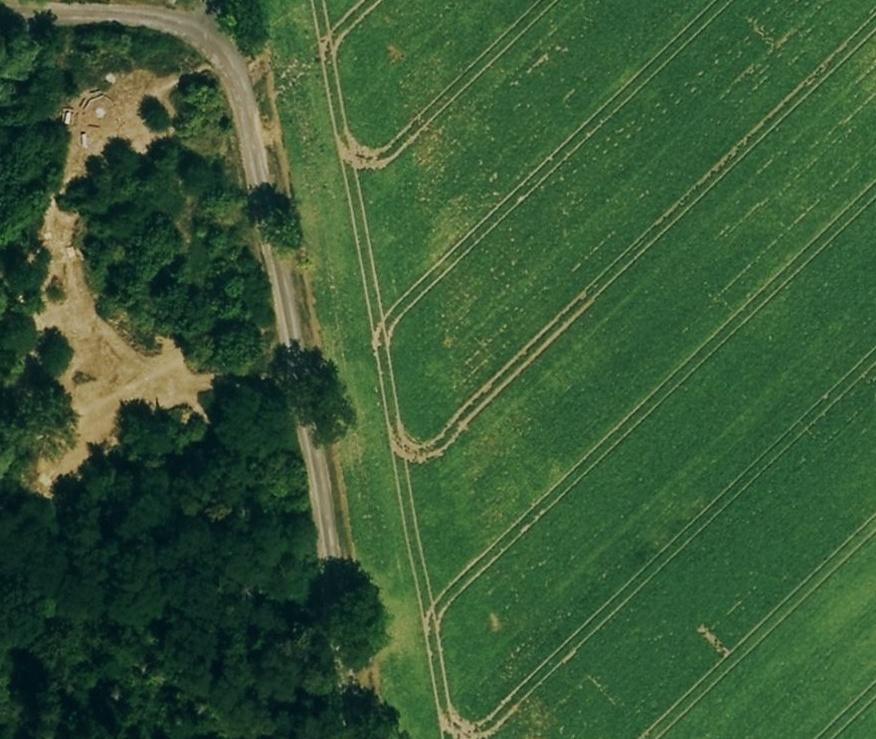field: (274, 0, 876, 737)
forest: (0, 5, 399, 737)
